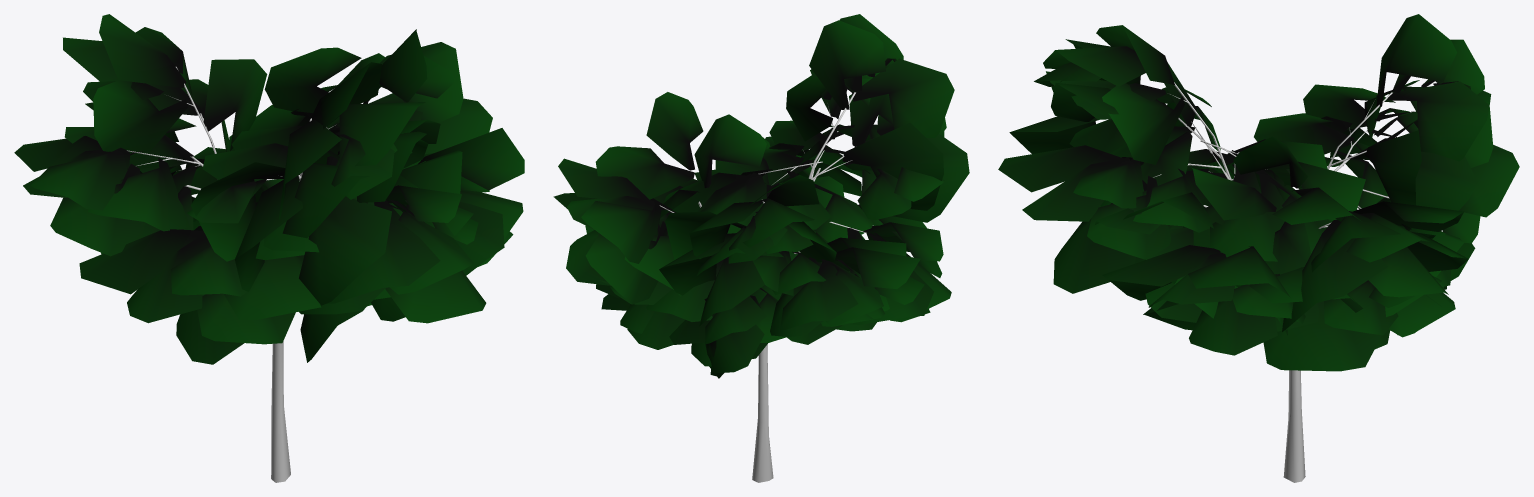
Rendered from CupuacuTree02_afsTREE_xlprl05_xlt_xef20_xmw03_xlb05_xlod01.fbx.
3 views of the same model, side by side, from view 1: azimuth 30°, elevation 25°; view 2: azimuth 150°, elevation 25°; view 3: azimuth 270°, elevation 25° (orthographic). The views are drawn at different scales.
Visible parts, largest first — view 1: branch00_00.034, branch00_00.002, branch02_02.030, branch02_02.037, branch00_00.007, branch02_02.045, branch02_02.025, branch02_02.031, branch02_02.047, branch00_00.006, branch00_00.032, branch02_02.046 (+42 smaller); view 2: branch00_00.033, branch00_00.031, branch00_00.027, branch02_02.025, branch.021, branch.018, branch02_02.044, branch.028, branch02_02.027, branch02_02.047, branch00_00.011, branch00_00.028 (+47 smaller); view 3: branch00_00.010, branch02_02.062, branch00_00.006, branch02_02.026, branch00_00.030, branch02_02.042, branch02_02.020, branch02_02.037, branch02_02.051, branch02_02.016, branch00_00.008, branch00_00.007 (+43 smaller).
Boxes of the visible parts, x1=… form: branch00_00.034: x1=299, y1=196, x2=391, y2=305; branch00_00.002: x1=93, y1=80, x2=188, y2=158; branch02_02.030: x1=79, y1=229, x2=207, y2=294; branch02_02.037: x1=326, y1=200, x2=440, y2=303; branch00_00.007: x1=203, y1=59, x2=267, y2=150; branch02_02.045: x1=88, y1=158, x2=190, y2=231; branch02_02.025: x1=264, y1=47, x2=361, y2=112; branch02_02.031: x1=224, y1=255, x2=321, y2=319; branch02_02.047: x1=31, y1=147, x2=130, y2=210; branch00_00.006: x1=99, y1=14, x2=186, y2=87; branch00_00.032: x1=317, y1=102, x2=425, y2=166; branch02_02.046: x1=50, y1=163, x2=145, y2=256; branch00_00.033: x1=852, y1=58, x2=954, y2=137; branch00_00.031: x1=809, y1=20, x2=885, y2=109; branch00_00.027: x1=842, y1=122, x2=943, y2=210; branch02_02.025: x1=581, y1=201, x2=661, y2=263; branch.021: x1=595, y1=146, x2=694, y2=199; branch.018: x1=694, y1=114, x2=766, y2=188; branch02_02.044: x1=780, y1=260, x2=858, y2=329; branch.028: x1=646, y1=92, x2=703, y2=170; branch02_02.027: x1=585, y1=221, x2=667, y2=304; branch02_02.047: x1=835, y1=247, x2=920, y2=289; branch00_00.011: x1=699, y1=257, x2=764, y2=326; branch00_00.028: x1=854, y1=134, x2=969, y2=222; branch00_00.010: x1=1387, y1=81, x2=1489, y2=161; branch02_02.062: x1=1263, y1=301, x2=1381, y2=371; branch00_00.006: x1=1376, y1=14, x2=1457, y2=106; branch02_02.026: x1=1282, y1=219, x2=1387, y2=331; branch00_00.030: x1=1102, y1=83, x2=1184, y2=164; branch02_02.042: x1=1053, y1=180, x2=1147, y2=293; branch02_02.020: x1=1189, y1=299, x2=1277, y2=355; branch02_02.037: x1=998, y1=145, x2=1123, y2=192; branch02_02.051: x1=1210, y1=174, x2=1284, y2=261; branch02_02.016: x1=1102, y1=245, x2=1220, y2=300; branch00_00.008: x1=1415, y1=151, x2=1477, y2=210; branch00_00.007: x1=1365, y1=130, x2=1421, y2=205.
Size of what is drawn, in the model's own units: 2.72 by 3.02 by 2.89.
